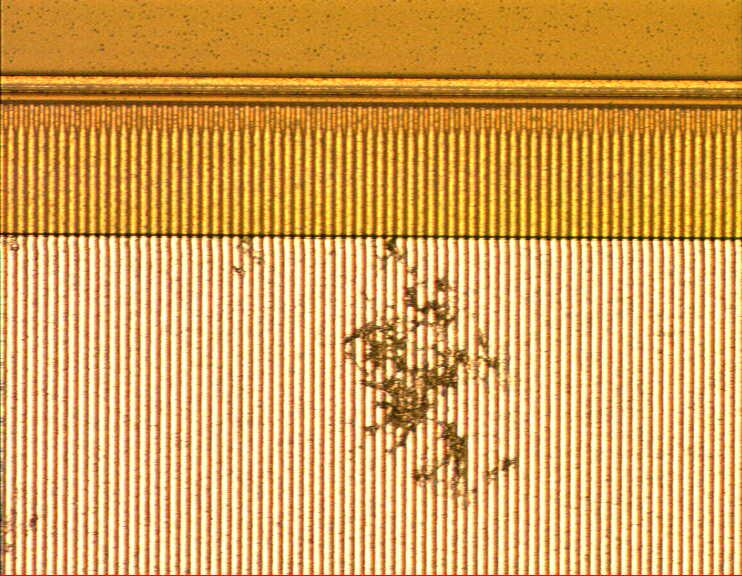SCRATCH: (1, 230, 531, 514)
